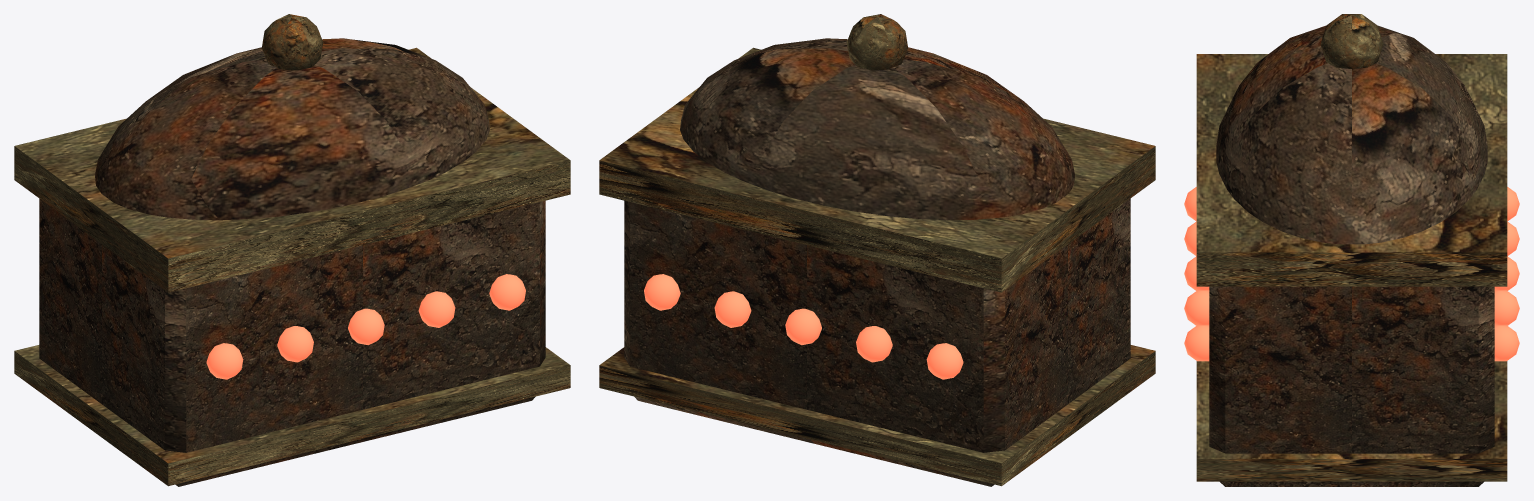
The model's file is ancient-reliquary-v01-photo.glb.
3 renders of one model, left to right at view 1: azimuth 30°, elevation 25°; view 2: azimuth 150°, elevation 25°; view 3: azimuth 270°, elevation 25°, orthographic.
Parts seen in each view (by area): view 1: ancient-reliquary; view 2: ancient-reliquary; view 3: ancient-reliquary.
Boxes of the visible parts, x1=… form: ancient-reliquary: x1=14, y1=14, x2=570, y2=486; ancient-reliquary: x1=599, y1=14, x2=1155, y2=486; ancient-reliquary: x1=1184, y1=14, x2=1519, y2=486.
Bounding box in the file's own units: 0.74 × 0.67 × 0.53.
3 materials, 2 textured.
